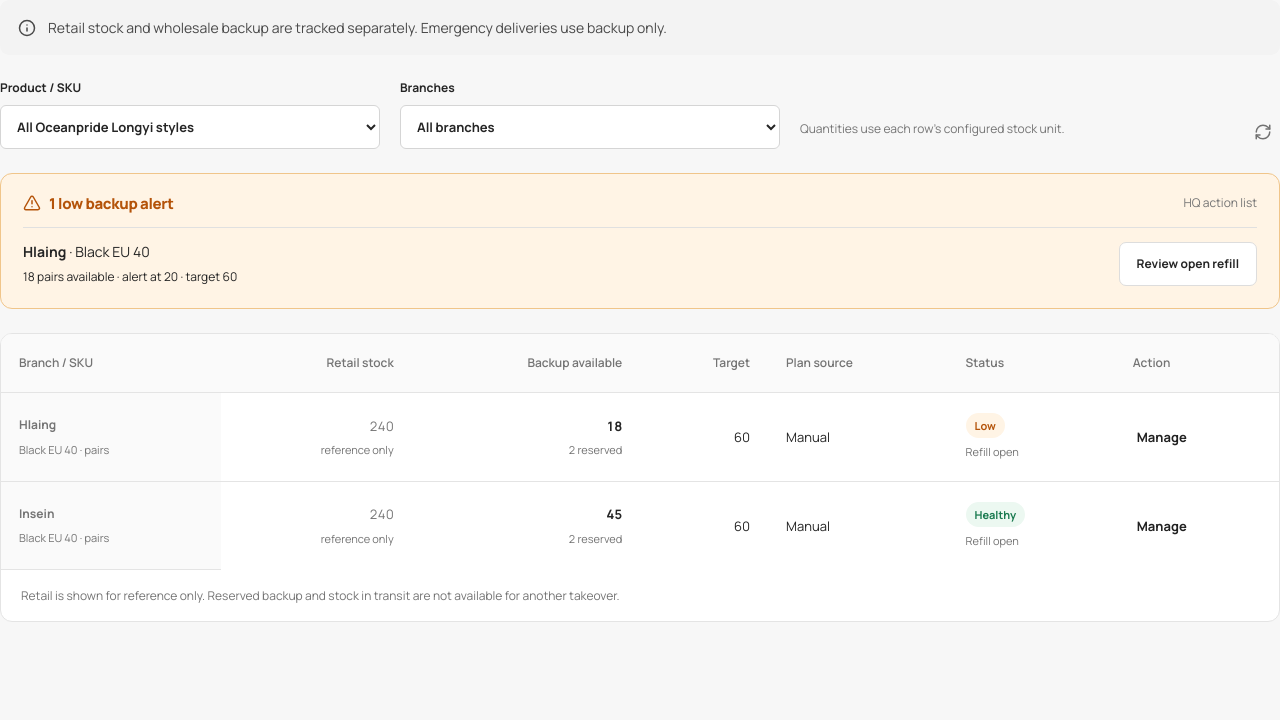
Scenario: shows an existing refill instead of offering a duplicate and does not count it as available
Click the button "Review open refill". click: click(1188, 264)
box: top-left (1119, 242), bottom-right (1257, 286)
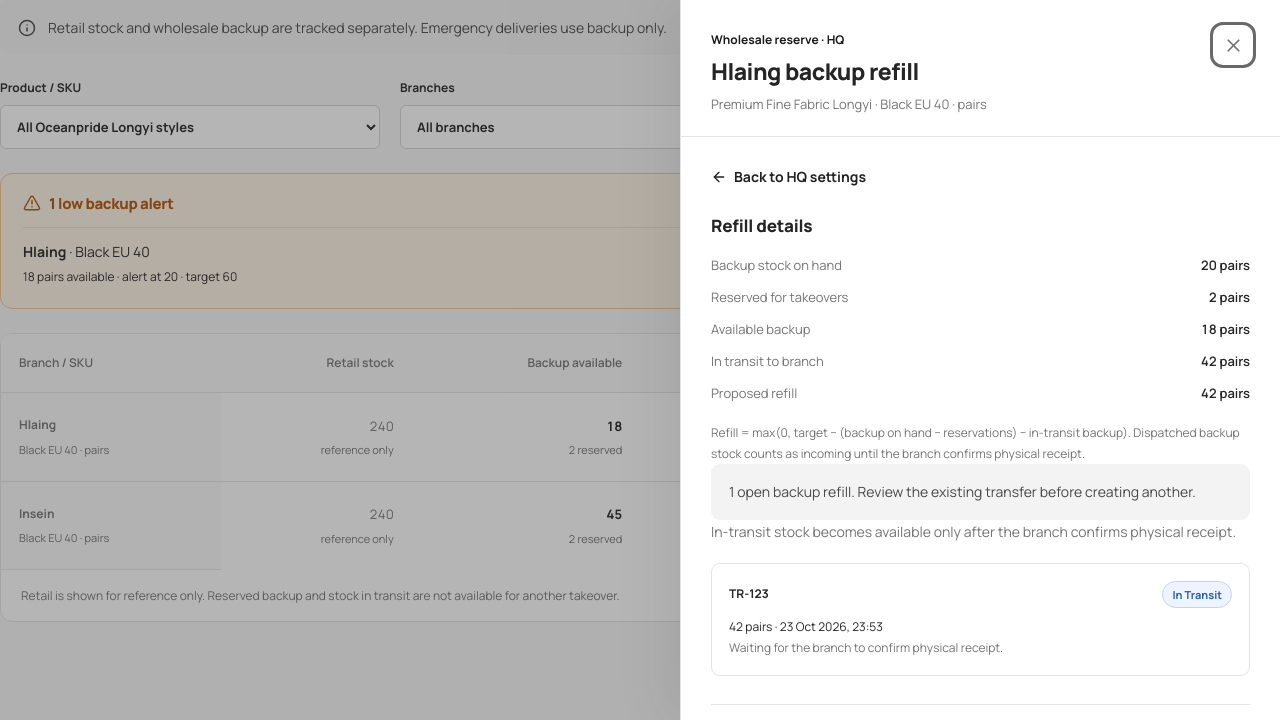
Expected: the text "Hlaing backup refill" is shown, top-left (711, 55), bottom-right (919, 87)
Expected: the text "1 open backup refill" is shown, top-left (711, 464), bottom-right (1250, 520)
Expected: the text "branch confirms physical receipt" is shown, top-left (711, 424), bottom-right (1240, 462)
